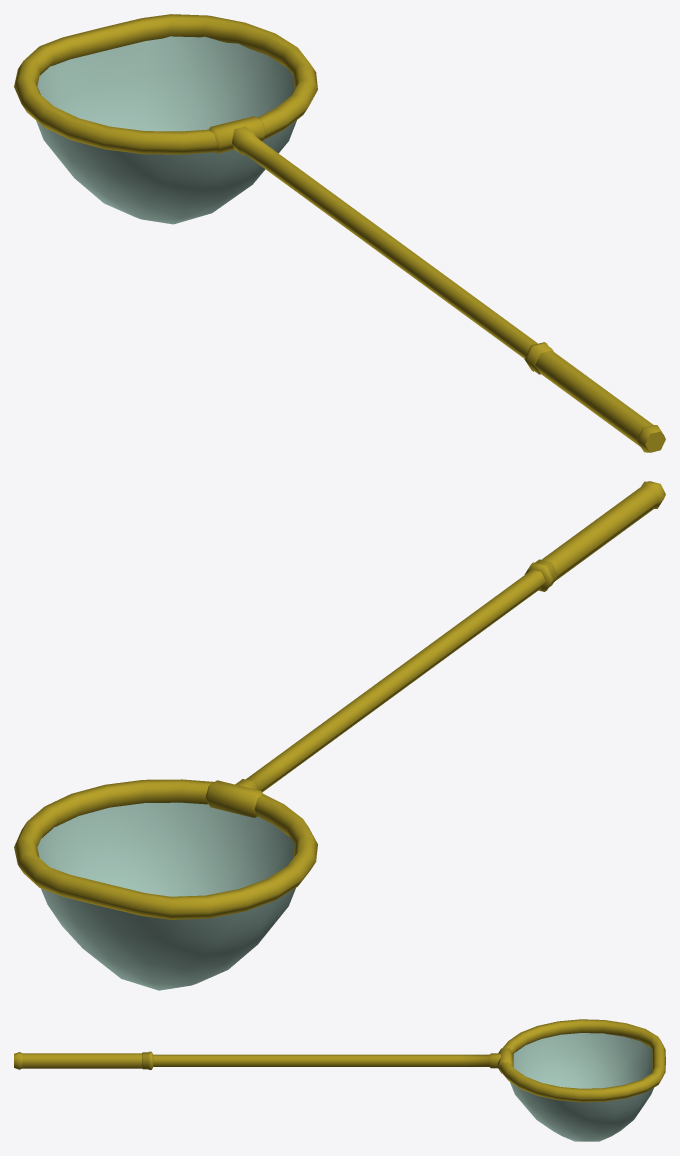
Rendered from G_Brailer_001_S1.FBX.
3 views of the same model, one above another, from view 1: azimuth 30°, elevation 25°; view 2: azimuth 150°, elevation 25°; view 3: azimuth 270°, elevation 25° (orthographic). The views are drawn at different scales.
Parts seen in each view (by area): view 1: S_M_Ornament_Brailer001_3X1X1_LOD0; view 2: S_M_Ornament_Brailer001_3X1X1_LOD0; view 3: S_M_Ornament_Brailer001_3X1X1_LOD0.
Part boxes in pixels (box(x1,y1,x2,y2)): S_M_Ornament_Brailer001_3X1X1_LOD0: box(14, 14, 665, 452); S_M_Ornament_Brailer001_3X1X1_LOD0: box(14, 481, 665, 990); S_M_Ornament_Brailer001_3X1X1_LOD0: box(14, 1019, 665, 1141).
Bounding box in the file's own units: 75.73 × 40.05 × 277.
